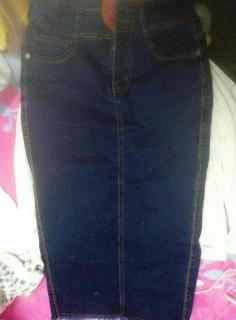skirt: (20, 1, 214, 319)
